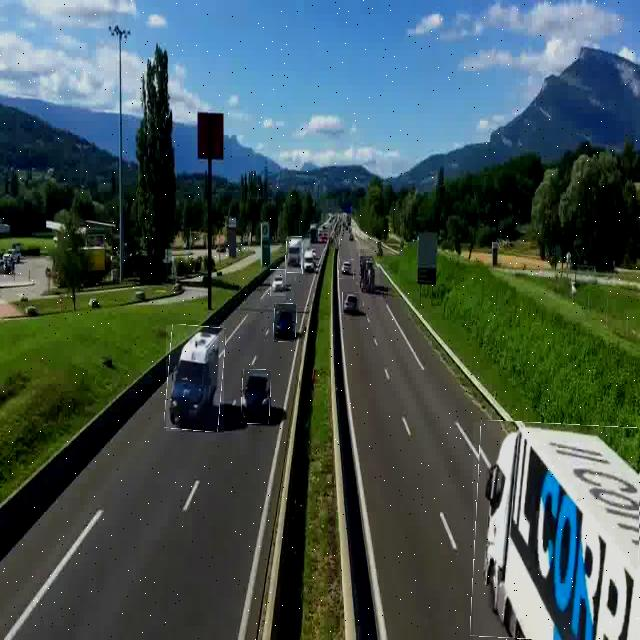Car: (241, 370, 271, 424), (274, 304, 296, 342), (270, 269, 286, 296), (342, 292, 359, 314), (339, 259, 354, 279)
Truck: (473, 422, 640, 640), (167, 325, 224, 431), (360, 253, 380, 293), (286, 237, 302, 273), (302, 252, 315, 274)
